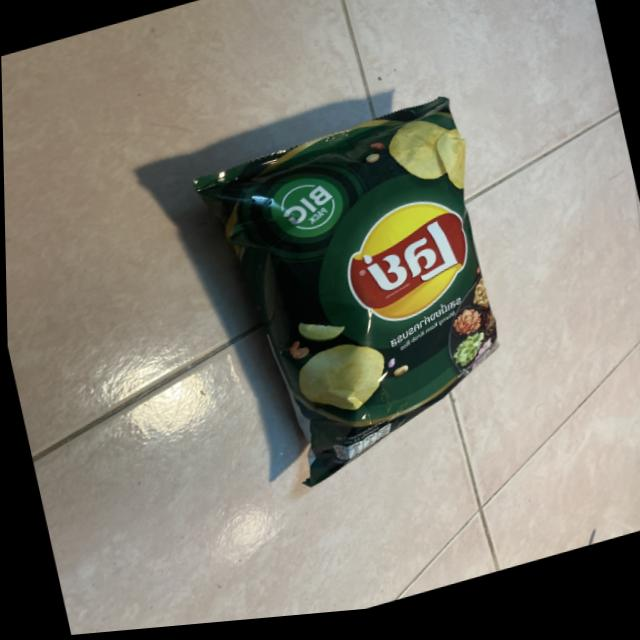Laygreen: (156, 71, 544, 518)
